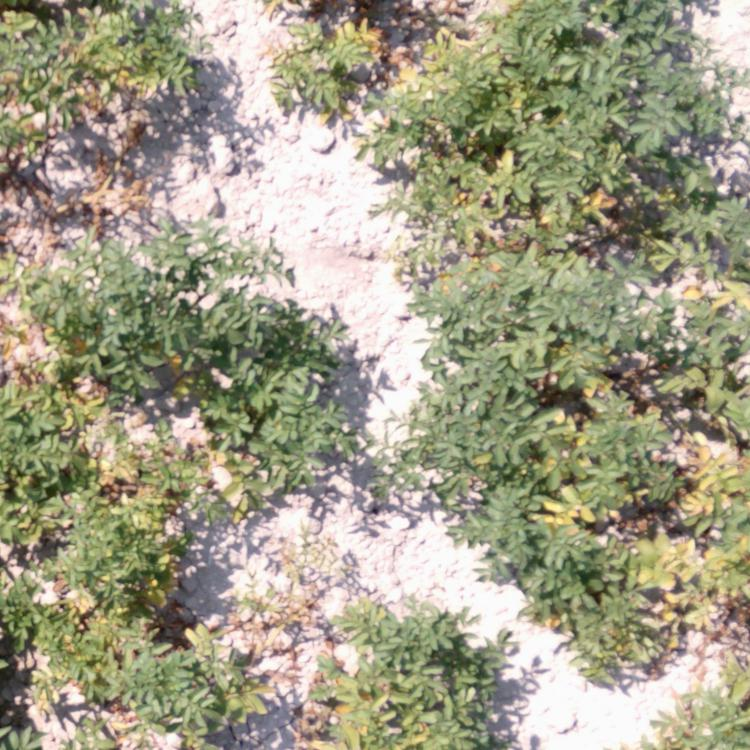healthy: (590, 1, 734, 122), (82, 228, 262, 307), (231, 308, 339, 430), (371, 439, 480, 550), (684, 125, 750, 265), (280, 429, 340, 507)
stressed: (406, 270, 750, 436), (370, 128, 684, 270), (493, 438, 739, 614), (304, 600, 512, 750), (414, 1, 587, 127), (140, 606, 284, 750), (65, 454, 187, 616), (1, 605, 136, 750), (1, 2, 203, 91), (271, 1, 409, 129), (1, 317, 63, 548), (118, 316, 231, 427), (193, 431, 280, 527), (671, 666, 749, 750), (64, 316, 112, 452), (567, 616, 664, 679), (1, 228, 71, 310), (1, 97, 56, 194)
